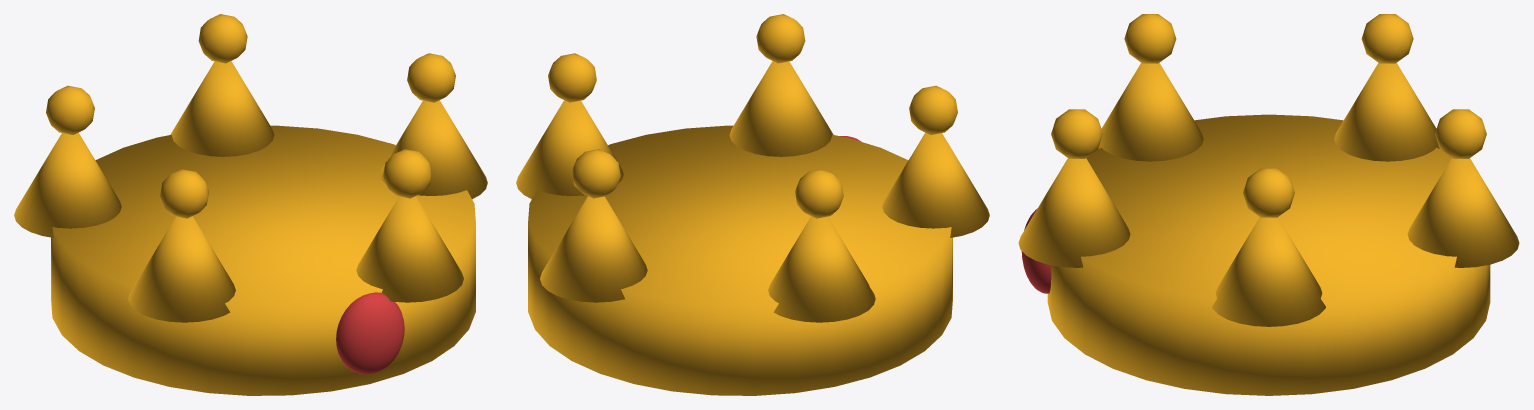
The model's file is head_acc_hat-b.glb.
3 renders of one model, left to right at view 1: azimuth 30°, elevation 25°; view 2: azimuth 150°, elevation 25°; view 3: azimuth 270°, elevation 25°, orthographic. The views are drawn at different scales.
Parts seen in each view (by area): view 1: crown_band, crown_spike_3, crown_spike_4, crown_spike_2, crown_spike_1, crown_spike_0, crown_jewel, crown_tip_4, crown_tip_2, crown_tip_3, crown_tip_0, crown_tip_1; view 2: crown_band, crown_spike_2, crown_spike_1, crown_spike_3, crown_spike_4, crown_spike_0, crown_tip_1, crown_tip_2, crown_tip_3, crown_tip_0, crown_tip_4; view 3: crown_band, crown_spike_0, crown_spike_1, crown_spike_4, crown_spike_2, crown_spike_3, crown_tip_0, crown_tip_1, crown_tip_2, crown_tip_3, crown_tip_4, crown_jewel.
Part boxes in pixels (bbox=[...]): crown_band: bbox=[51, 125, 475, 395]; crown_spike_3: bbox=[128, 216, 235, 322]; crown_spike_4: bbox=[356, 196, 463, 302]; crown_spike_2: bbox=[14, 132, 121, 237]; crown_spike_1: bbox=[170, 61, 274, 156]; crown_spike_0: bbox=[380, 100, 487, 199]; crown_jewel: bbox=[336, 292, 404, 374]; crown_tip_4: bbox=[383, 149, 431, 198]; crown_tip_2: bbox=[46, 85, 94, 134]; crown_tip_3: bbox=[160, 169, 208, 218]; crown_tip_0: bbox=[407, 53, 455, 102]; crown_tip_1: bbox=[198, 14, 247, 63]; crown_band: bbox=[528, 125, 952, 395]; crown_spike_2: bbox=[768, 216, 875, 322]; crown_spike_1: bbox=[540, 196, 647, 302]; crown_spike_3: bbox=[882, 132, 989, 237]; crown_spike_4: bbox=[729, 61, 833, 156]; crown_spike_0: bbox=[516, 100, 623, 199]; crown_tip_1: bbox=[572, 149, 620, 198]; crown_tip_2: bbox=[795, 169, 843, 218]; crown_tip_3: bbox=[909, 85, 957, 134]; crown_tip_0: bbox=[548, 53, 596, 102]; crown_tip_4: bbox=[756, 14, 805, 63]; crown_band: bbox=[1047, 114, 1490, 395]; crown_spike_0: bbox=[1212, 217, 1325, 326]; crown_spike_1: bbox=[1407, 158, 1519, 267]; crown_spike_4: bbox=[1018, 158, 1130, 267]; crown_spike_2: bbox=[1334, 63, 1439, 161]; crown_spike_3: bbox=[1098, 63, 1203, 161]; crown_tip_0: bbox=[1243, 168, 1294, 217]; crown_tip_1: bbox=[1435, 109, 1486, 158]; crown_tip_2: bbox=[1361, 14, 1413, 63]; crown_tip_3: bbox=[1124, 14, 1176, 63]; crown_tip_4: bbox=[1051, 109, 1102, 158]; crown_jewel: bbox=[1021, 208, 1051, 293].
Bounding box in the file's own units: 0.1482 × 0.074 × 0.1539.
